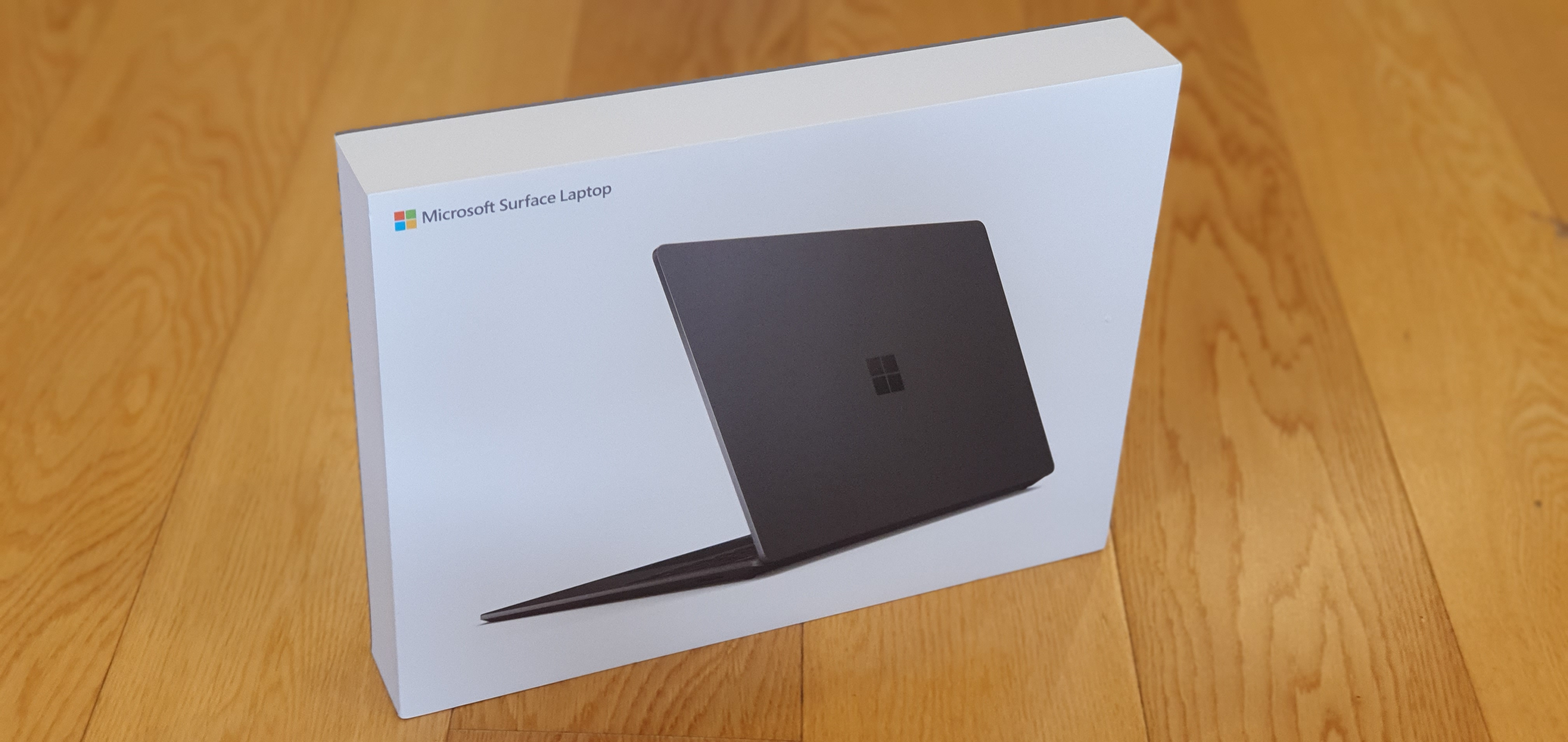laptop: (481, 221, 1054, 621)
